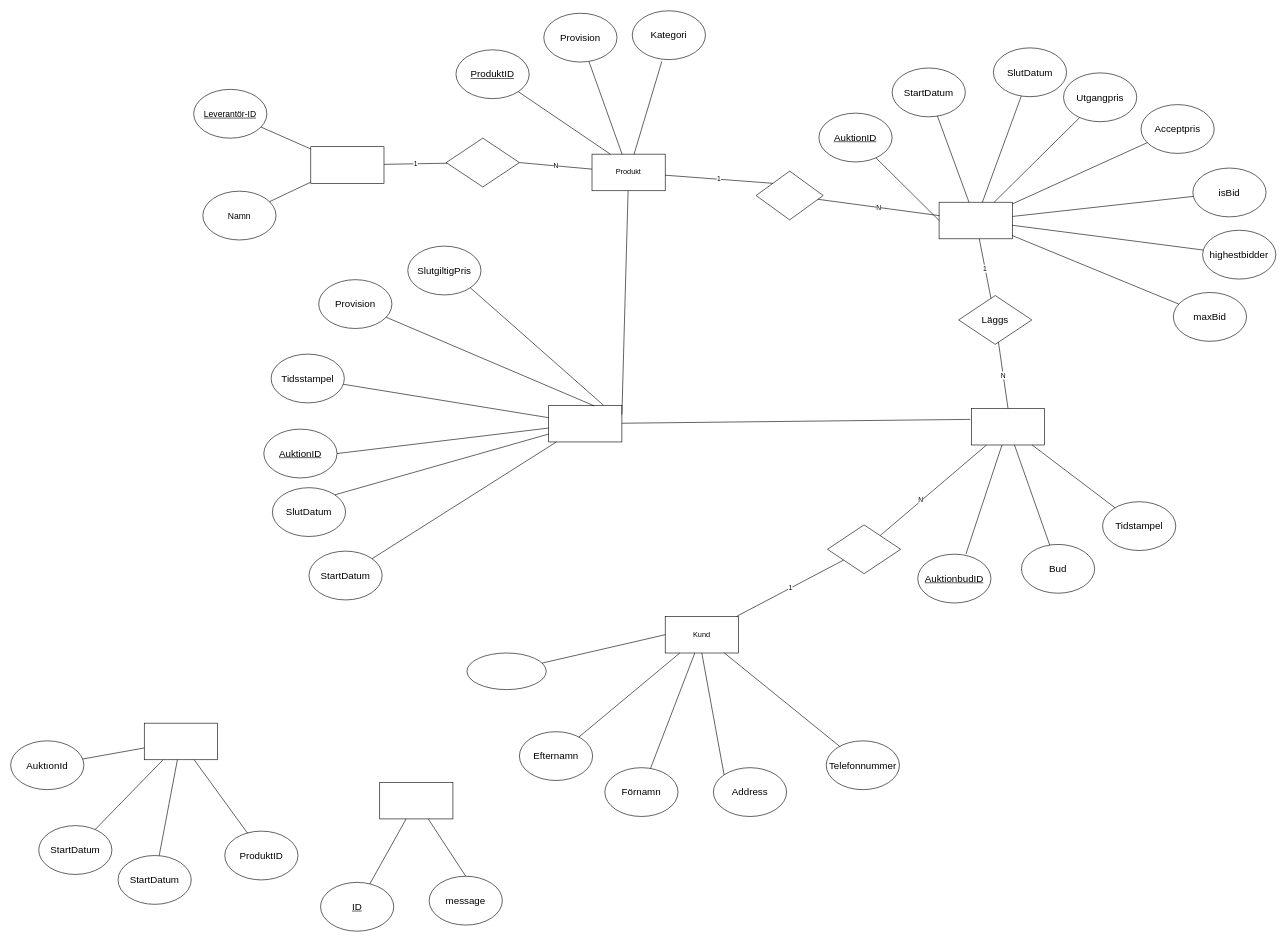
The diagram is 1286 pixels wide and 942 high, and some of its shapes have lost their labels. Here are the shapes that lost their labels. From the top down, the centre of each, then its label:
At (x=347, y=164): "Leverantör".
At (x=482, y=162): "Läggs till".
At (x=789, y=195): "läggs ut på".
At (x=975, y=220): "Auktion".
At (x=585, y=423): "Auktionshistorik".
At (x=1008, y=426): "Auktionsbud".
At (x=864, y=549): "Ger".
At (x=506, y=671): "Personnummer".
At (x=180, y=741): "Unsold".
At (x=416, y=800): "email_table".
